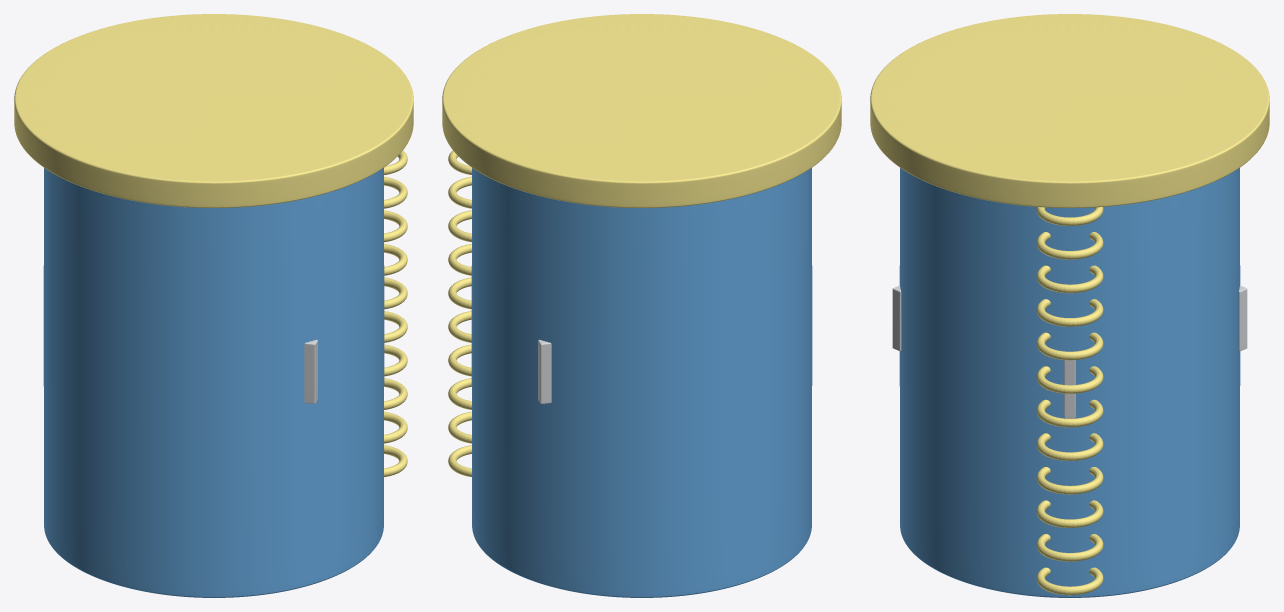
The model's file is Toy_Tower_Ultra_Hi.fbx.
3 renders of one model, left to right at view 1: azimuth 30°, elevation 25°; view 2: azimuth 150°, elevation 25°; view 3: azimuth 270°, elevation 25°, orthographic.
Parts seen in each view (by area): view 1: Cylinder, Cylinder.001, Cube.007; view 2: Cylinder, Cylinder.001, Cube.001; view 3: Cylinder, Cylinder.001, Torus.005, Torus.007, Torus, Torus.009, Torus.003, Torus.008, Torus.006, Torus.002, Torus.004, Torus.010 (+5 smaller).
Part boxes in pixels (x1,y1,x2,y2): Cylinder: (43, 168, 384, 597); Cylinder.001: (14, 14, 413, 207); Cube.007: (304, 343, 317, 403); Cylinder: (471, 168, 812, 597); Cylinder.001: (442, 14, 841, 207); Cube.001: (540, 342, 551, 403); Cylinder: (899, 168, 1240, 597); Cylinder.001: (870, 14, 1269, 207); Torus.005: (1036, 399, 1103, 427); Torus.007: (1036, 332, 1103, 360); Torus: (1036, 567, 1103, 595); Torus.009: (1036, 265, 1103, 293); Torus.003: (1036, 467, 1103, 494); Torus.008: (1036, 299, 1103, 326); Torus.006: (1036, 366, 1103, 393); Torus.002: (1036, 500, 1103, 527); Torus.004: (1036, 433, 1103, 460); Torus.010: (1036, 232, 1103, 259).
Bounding box in the file's own units: 2.83 × 3.2 × 2.7.
